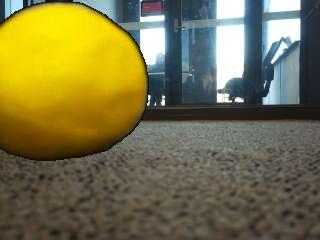lemon: (0, 4, 148, 157)
